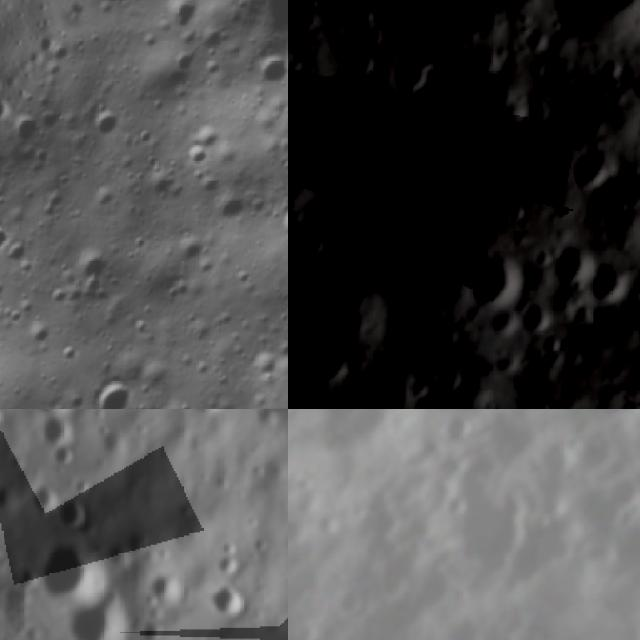crater: (406, 431, 566, 591), (288, 236, 380, 405), (36, 532, 115, 608), (461, 242, 529, 316), (462, 69, 530, 140), (62, 584, 137, 640), (420, 409, 485, 462), (19, 382, 142, 409), (544, 227, 595, 291), (387, 41, 435, 105), (585, 256, 640, 309), (563, 141, 618, 192), (145, 563, 189, 619), (67, 244, 118, 292), (82, 100, 129, 149), (167, 225, 214, 271), (206, 578, 252, 625), (32, 409, 83, 451), (247, 45, 288, 96), (207, 184, 252, 230), (4, 107, 49, 152), (22, 475, 64, 522), (87, 372, 139, 409), (20, 312, 60, 352), (210, 543, 250, 583), (158, 0, 206, 32), (186, 118, 225, 157), (168, 39, 206, 79), (246, 342, 284, 380), (86, 177, 124, 215), (516, 302, 550, 344), (434, 360, 468, 401), (180, 139, 216, 173), (532, 330, 566, 360), (275, 39, 288, 105), (271, 200, 288, 249), (0, 215, 18, 260), (56, 338, 82, 366), (288, 563, 296, 640), (628, 330, 640, 371), (612, 393, 640, 409)
